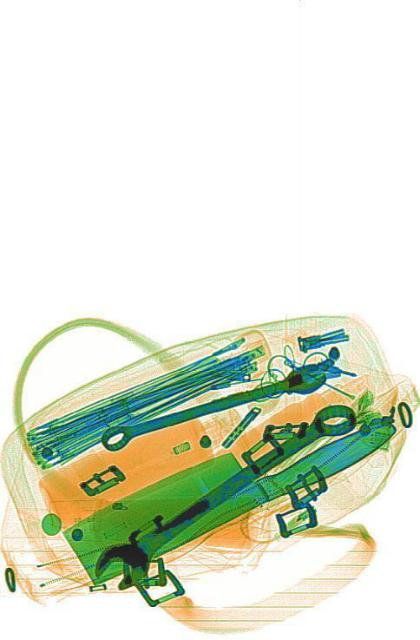Knife: (58, 379, 398, 595)
Wrench: (86, 379, 358, 605), (98, 357, 328, 455)
